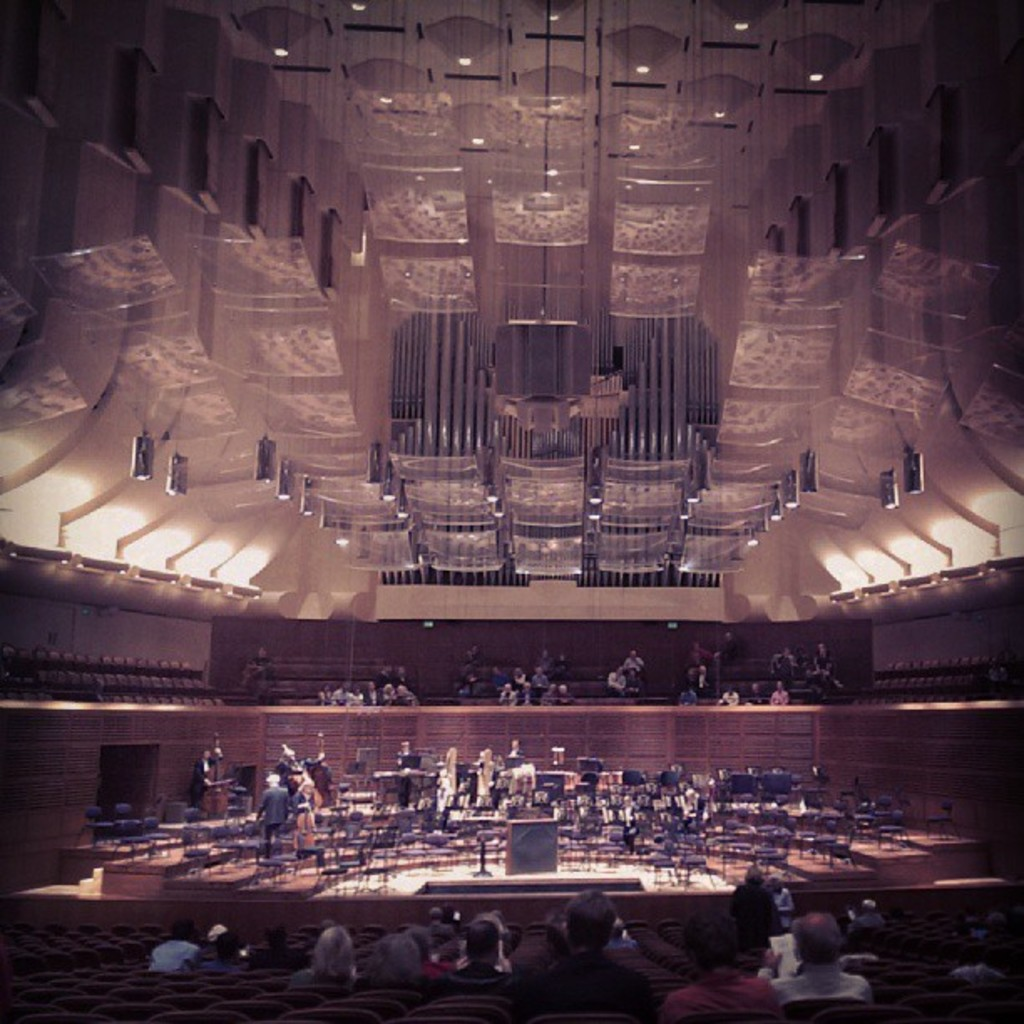person: (865, 909, 964, 968)
